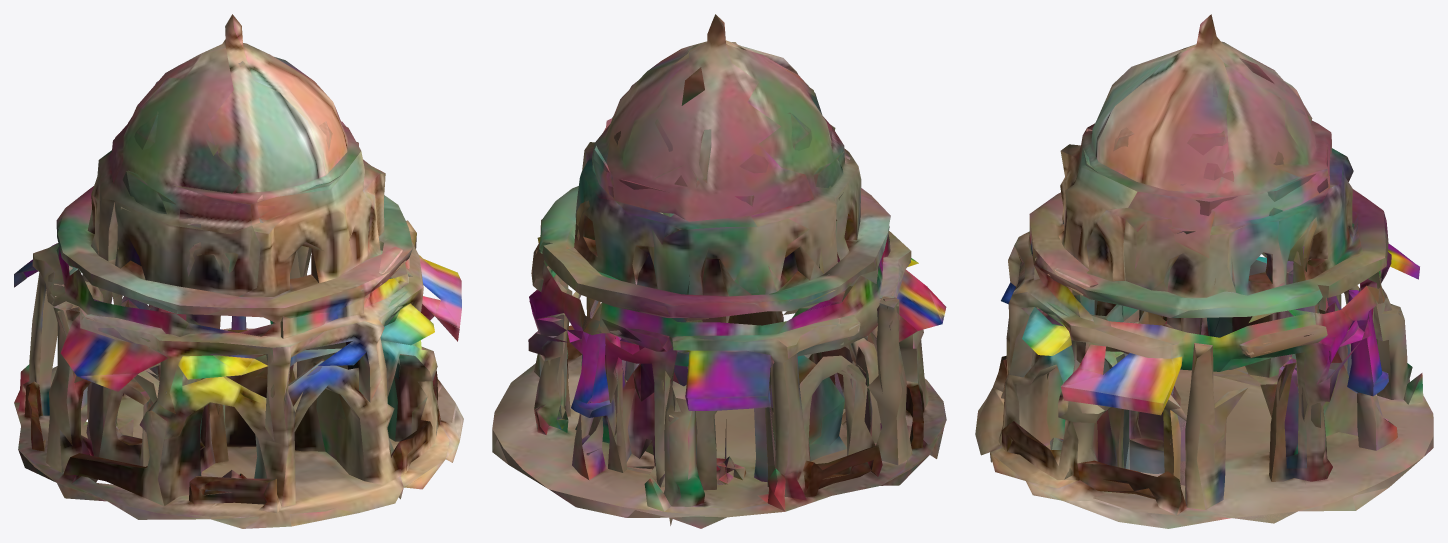
File: grandBazaar.glb
The picture shows the model from 3 angles, left to right: view 1: azimuth 30°, elevation 25°; view 2: azimuth 150°, elevation 25°; view 3: azimuth 270°, elevation 25°; orthographic projection.
Parts seen in each view (by area): view 1: level; view 2: level; view 3: level.
Part boxes in pixels (<box>): level: <box>14,14,463,528</box>; level: <box>492,14,946,528</box>; level: <box>975,14,1433,528</box>.
Size of the model in its own units: 0.7594 by 0.7703 by 0.7564.
1 material, 1 textured.
